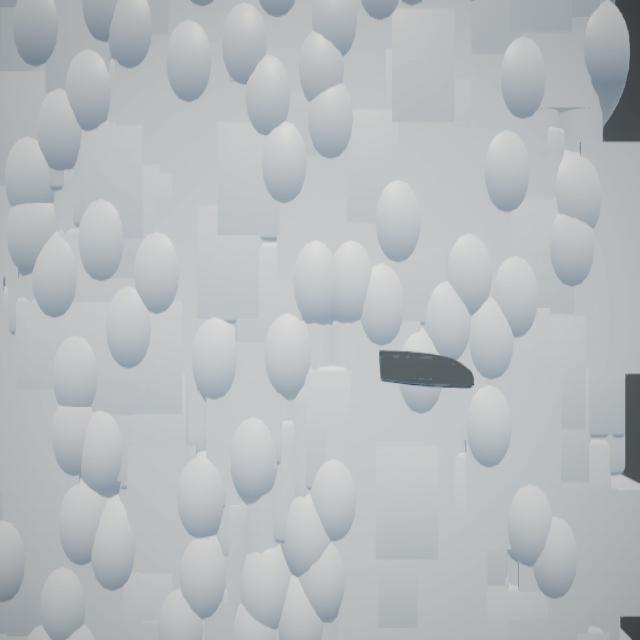top_knife: (380, 351, 475, 390)
